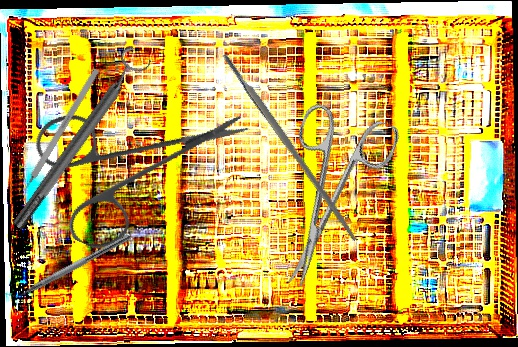Chopper: (2, 225, 132, 307)
Fixation Ring: (2, 43, 155, 236)
Hook Surgical: (15, 68, 100, 203)
Iris Scissors: (3, 42, 254, 287), (246, 95, 403, 301)
Scalpel Handle: (221, 51, 360, 243)
